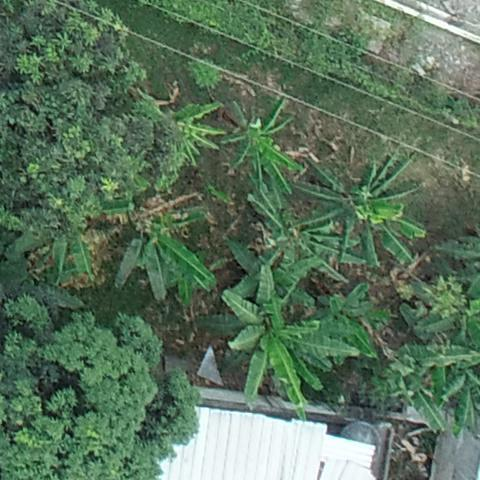Banana-plant: (222, 262, 359, 427), (292, 144, 430, 274), (0, 197, 135, 290), (249, 182, 363, 290), (113, 204, 220, 308), (222, 91, 308, 201), (223, 221, 318, 312), (366, 347, 461, 437), (307, 278, 389, 371), (411, 273, 480, 352), (164, 99, 227, 172)
